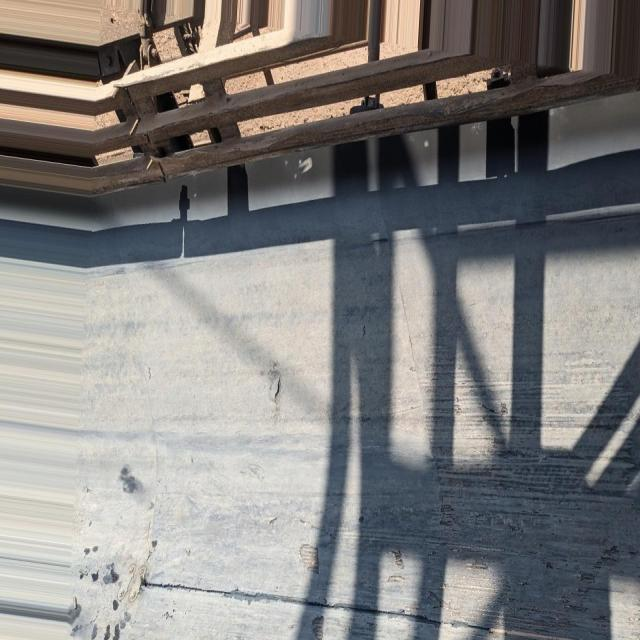Tear: (146, 530, 506, 640), (273, 374, 283, 400)
patch work: (108, 559, 151, 603)
